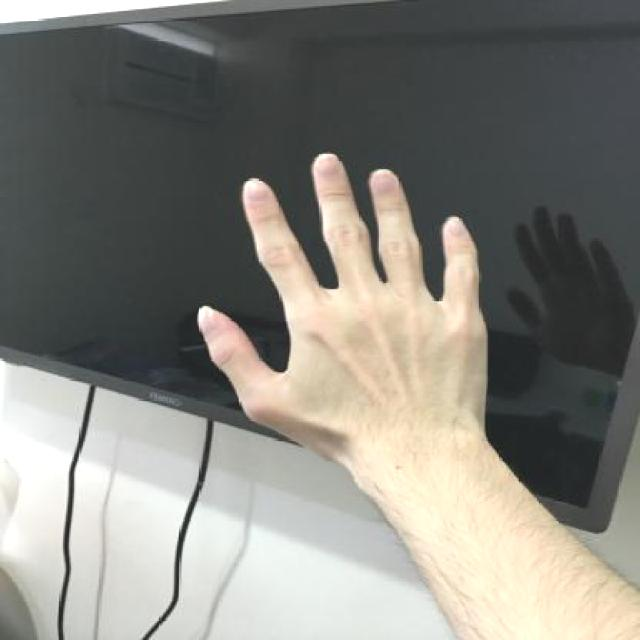no_glove: (185, 133, 502, 492)
